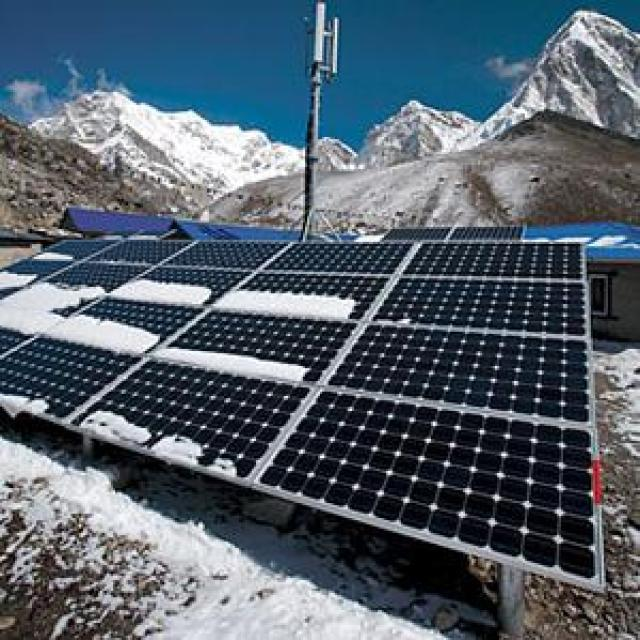Snow: (154, 344, 313, 383), (46, 314, 166, 355), (215, 289, 359, 322), (0, 290, 98, 334), (76, 407, 159, 448), (106, 279, 213, 307), (148, 430, 212, 468), (0, 393, 52, 416), (202, 453, 244, 480), (37, 283, 108, 293), (0, 272, 39, 285), (31, 252, 75, 261), (375, 319, 415, 327), (0, 285, 16, 289)
